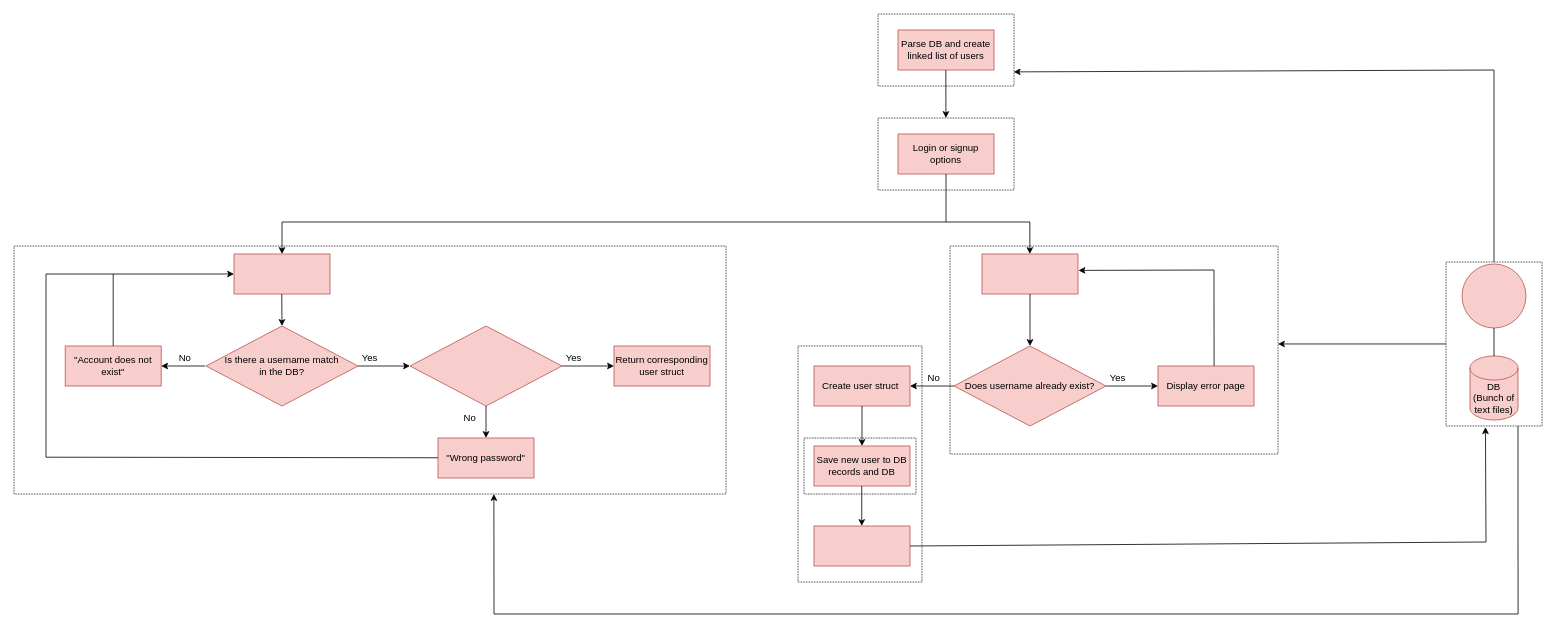
This 1556x634 diagram has some shape labels left out. The shapes that lost their labels are listed below. From the top down, each one's box as (x1, y1, x2, y2) in pixels, then its label:
(233, 253, 330, 294): Login page
(981, 253, 1078, 294): Signup page
(1461, 263, 1526, 328): DB records (single file)
(409, 325, 562, 406): Is the password a match?
(813, 525, 910, 566): Link to existing list of user structs
